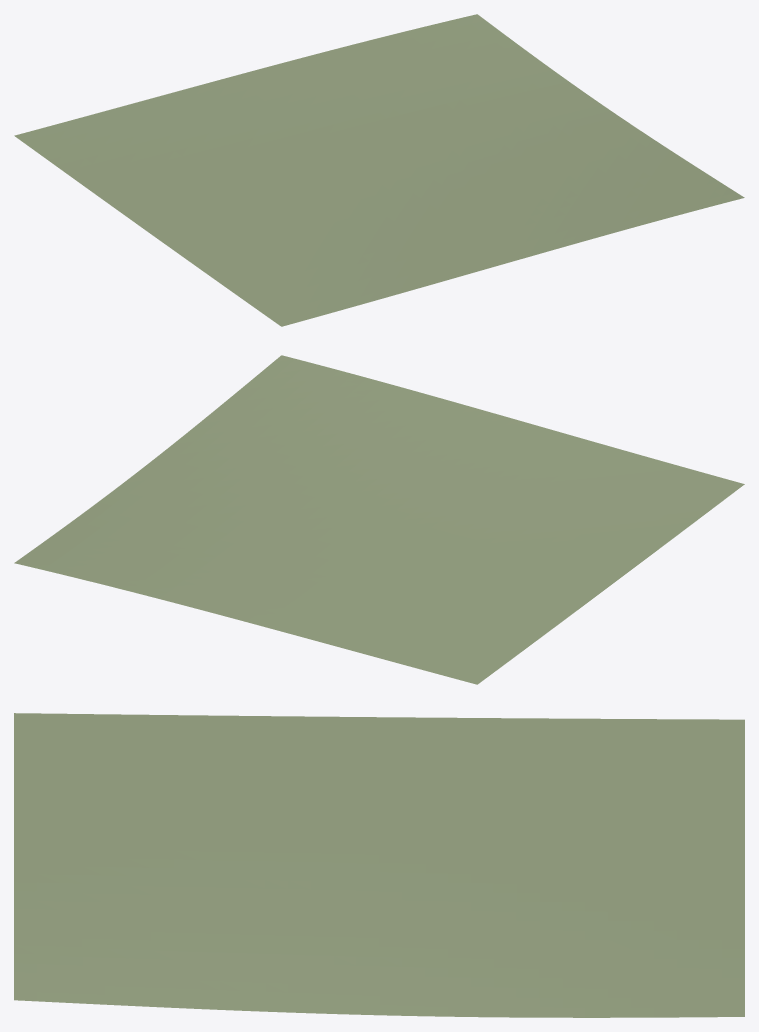
The model's file is desert-20-5.glb.
The picture shows the model from 3 angles, top to bottom: view 1: azimuth 30°, elevation 25°; view 2: azimuth 150°, elevation 25°; view 3: azimuth 270°, elevation 25°; orthographic projection. The views are drawn at different scales.
Parts seen in each view (by area): view 1: desert-20-5; view 2: desert-20-5; view 3: desert-20-5.
Part boxes in pixels (x1,y1,x2,y2): desert-20-5: [14, 14, 744, 326]; desert-20-5: [14, 355, 744, 684]; desert-20-5: [14, 713, 744, 1017].
Size of the model in its own units: 512 by 21.84 by 512.
